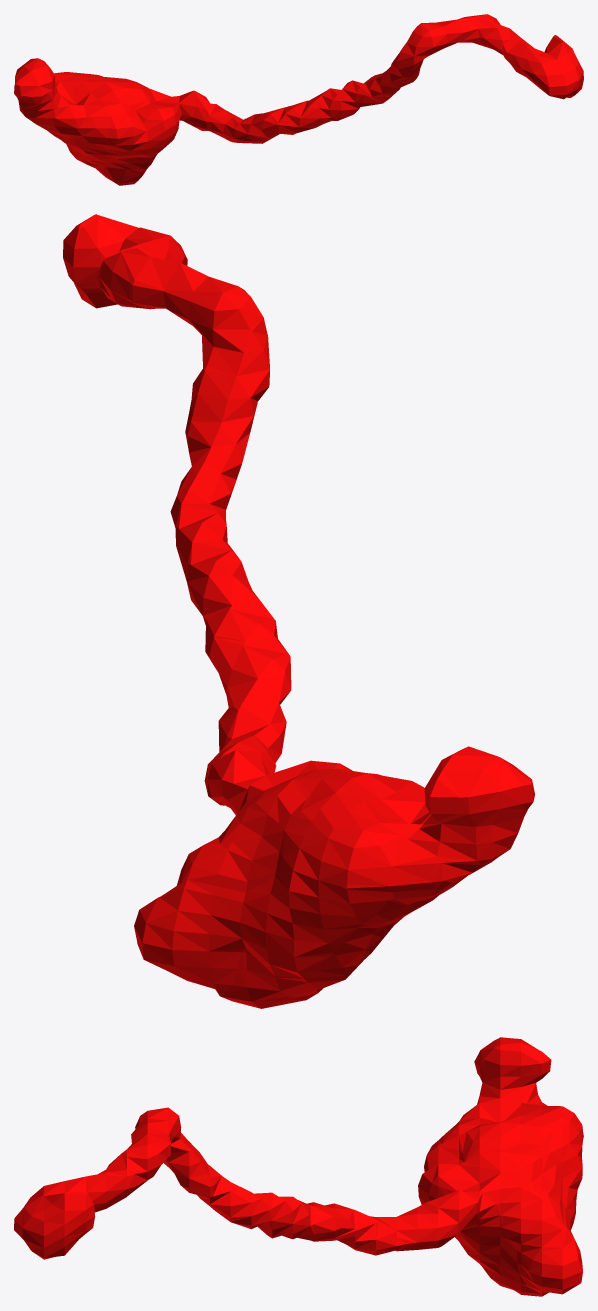
The model's file is lptC_coarse.dae.
The picture shows the model from 3 angles, top to bottom: view 1: azimuth 30°, elevation 25°; view 2: azimuth 150°, elevation 25°; view 3: azimuth 270°, elevation 25°; orthographic projection. The views are drawn at different scales.
Parts seen in each view (by area): view 1: lptC; view 2: lptC; view 3: lptC.
Part boxes in pixels (x1=…): lptC: x1=14, y1=14, x2=583, y2=185; lptC: x1=63, y1=214, x2=534, y2=1008; lptC: x1=14, y1=1037, x2=583, y2=1296.
Bounding box in the file's own units: 138 × 73.49 × 130.
